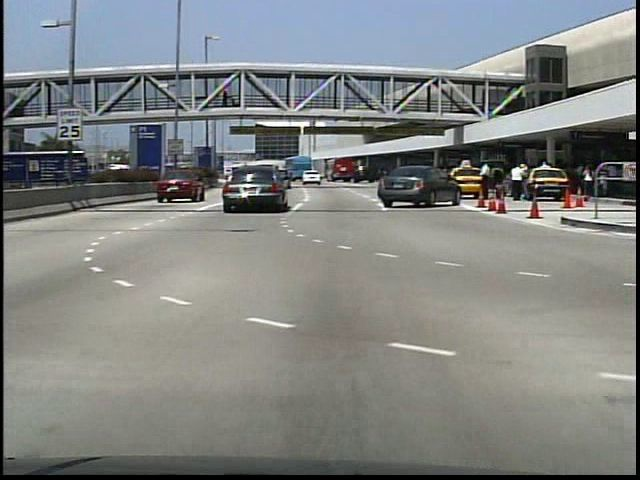person: (508, 161, 529, 204), (478, 163, 496, 205), (578, 166, 597, 204), (518, 162, 531, 202), (221, 91, 231, 112)
